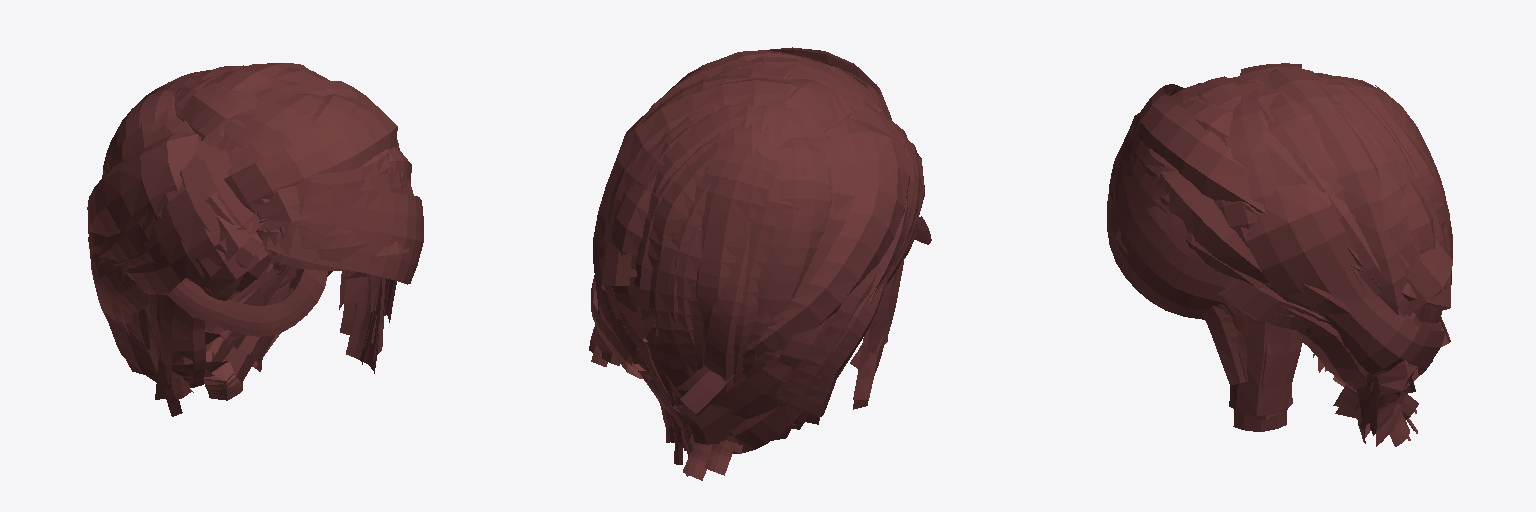
Rendered from NewHairCheckOBJ_B.obj.
The picture shows the model from 3 angles: view 1: azimuth 30°, elevation 25°; view 2: azimuth 150°, elevation 25°; view 3: azimuth 270°, elevation 25°; orthographic projection.
Visible parts, largest first — view 1: NewHairCheckOBJ; view 2: NewHairCheckOBJ; view 3: NewHairCheckOBJ.
Boxes of the visible parts, x1=… form: NewHairCheckOBJ: x1=87, y1=63, x2=423, y2=416; NewHairCheckOBJ: x1=589, y1=47, x2=931, y2=480; NewHairCheckOBJ: x1=1107, y1=63, x2=1452, y2=446.
Bounding box in the file's own units: 21.01 × 26.45 × 23.31.